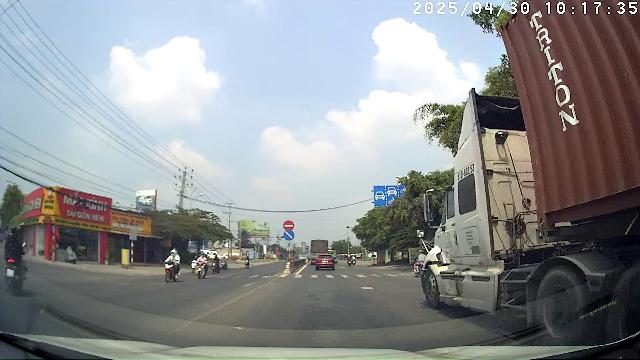102-cam-di-nguoc-chieu: (284, 220, 294, 230)
302a-huong-phai-di-vong-chuong-ngai-vat-1: (284, 231, 294, 240)
